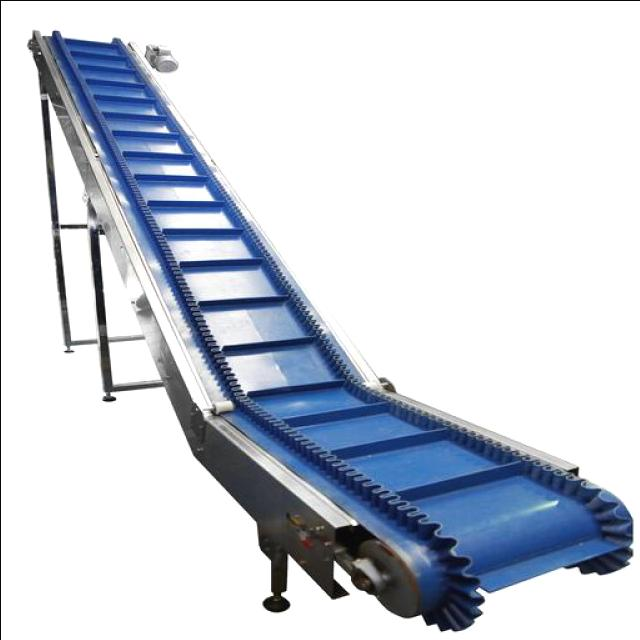conveyor: (52, 34, 637, 614)
